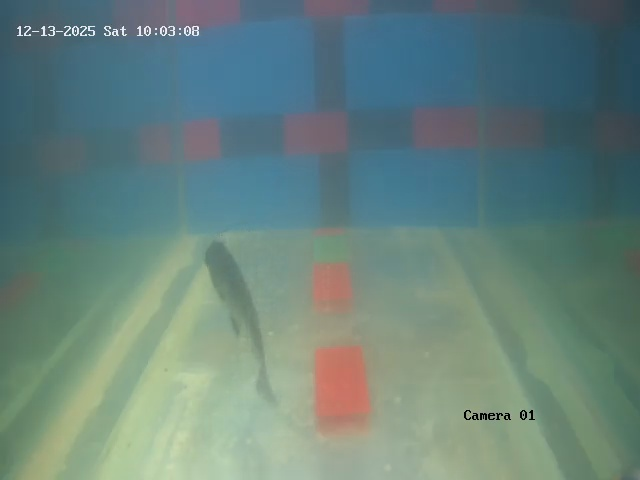fish: (198, 239, 265, 355)
